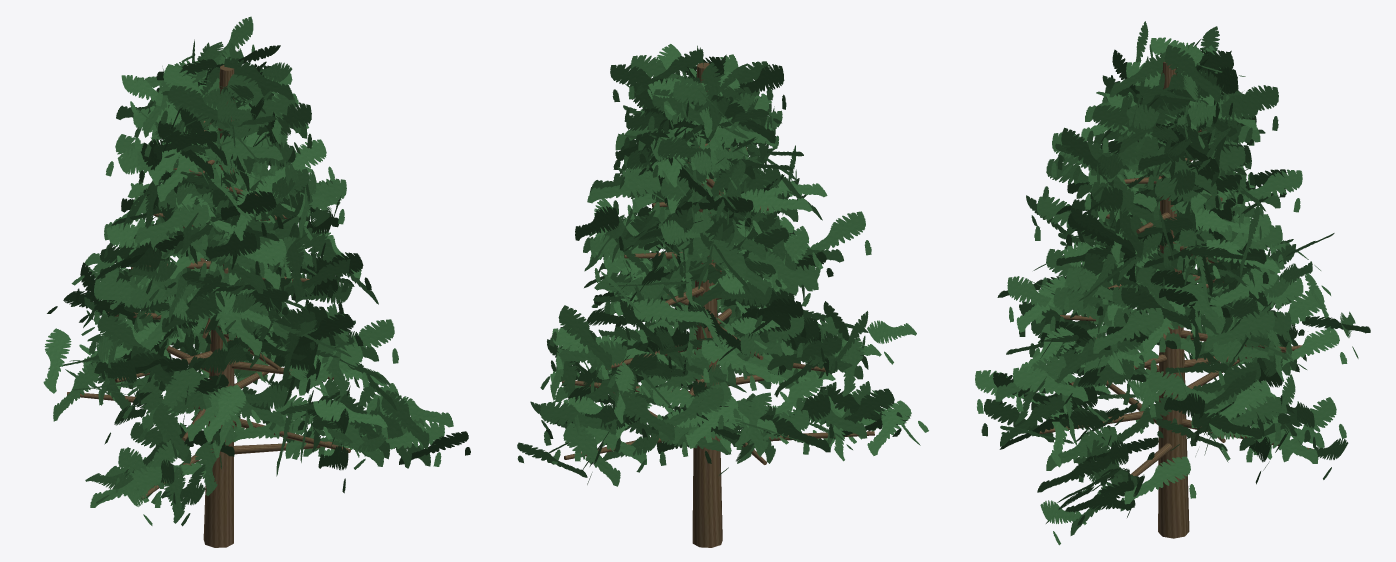
3 views of the same model, side by side, from view 1: azimuth 30°, elevation 25°; view 2: azimuth 150°, elevation 25°; view 3: azimuth 270°, elevation 25° (orthographic).
Visible parts, largest first — view 1: pine-needle, pine-bark; view 2: pine-needle, pine-bark; view 3: pine-needle, pine-bark.
Boxes of the visible parts, x1,y1,x2,y2 form: pine-needle: [43, 16, 470, 526]; pine-bark: [67, 65, 388, 547]; pine-needle: [517, 44, 928, 486]; pine-bark: [562, 62, 874, 547]; pine-needle: [975, 21, 1370, 545]; pine-bark: [1039, 62, 1313, 538].
Bounding box in the file's own units: 8.33 × 10.46 × 7.97.
2 materials, 2 textured.
